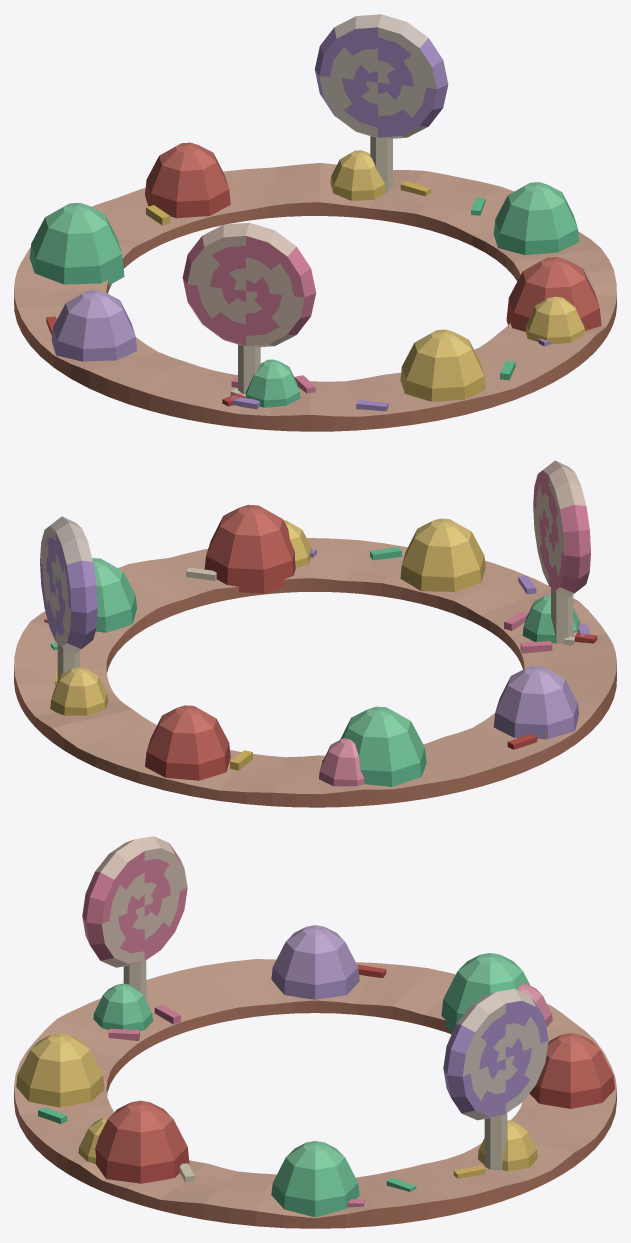
File: habitat_candy_patch_overlay.fbx
The picture shows the model from 3 angles, top to bottom: view 1: azimuth 30°, elevation 25°; view 2: azimuth 150°, elevation 25°; view 3: azimuth 270°, elevation 25°; orthographic projection.
Parts seen in each view (by area): view 1: habitat_candy_patch_overlay; view 2: habitat_candy_patch_overlay; view 3: habitat_candy_patch_overlay.
Part boxes in pixels (x1,y1,x2,y2): habitat_candy_patch_overlay: (14, 14, 616, 431); habitat_candy_patch_overlay: (14, 460, 616, 807); habitat_candy_patch_overlay: (14, 836, 616, 1228).
Size of the model in its own units: 7.5 by 2.55 by 7.5.
